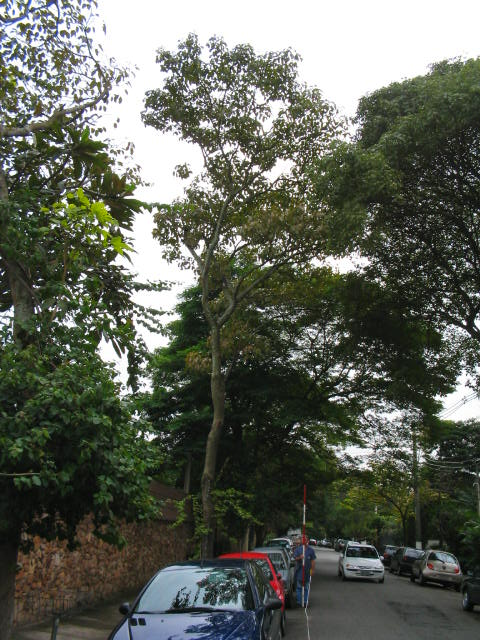crown: (142, 29, 403, 297)
stem: (183, 479, 232, 612)
stick: (293, 483, 316, 607)
tree: (140, 27, 404, 610)
